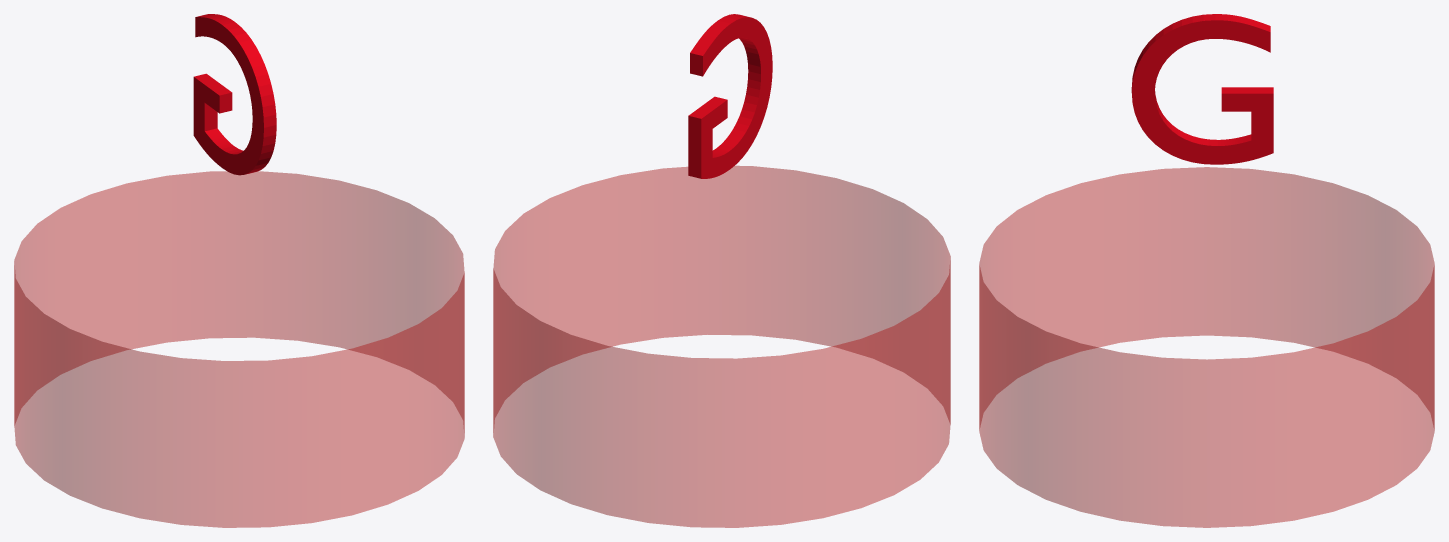
File: goal.gltf
3 views of the same model, side by side, from view 1: azimuth 30°, elevation 25°; view 2: azimuth 150°, elevation 25°; view 3: azimuth 270°, elevation 25° (orthographic).
Visible parts, largest first — view 1: 円柱, 円柱.001, テキスト; view 2: 円柱, 円柱.001, テキスト; view 3: 円柱, 円柱.001, テキスト.
Boxes of the visible parts, x1,y1,x2,y2 form: 円柱: [14, 171, 464, 527]; 円柱.001: [14, 171, 464, 527]; テキスト: [193, 14, 276, 175]; 円柱: [493, 166, 950, 527]; 円柱.001: [493, 166, 950, 527]; テキスト: [688, 14, 772, 178]; 円柱: [979, 167, 1434, 527]; 円柱.001: [979, 167, 1434, 527]; テキスト: [1131, 14, 1273, 164].
Bounding box in the file's own units: 2 × 1.99 × 2.
